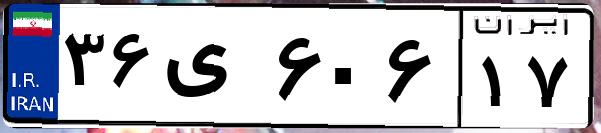0: (330, 28, 385, 110)
1: (475, 38, 525, 113)
3: (57, 26, 110, 100)
6: (270, 28, 330, 110), (385, 28, 445, 110), (110, 28, 158, 98)
7: (525, 38, 570, 115)
ی: (158, 20, 270, 120)
